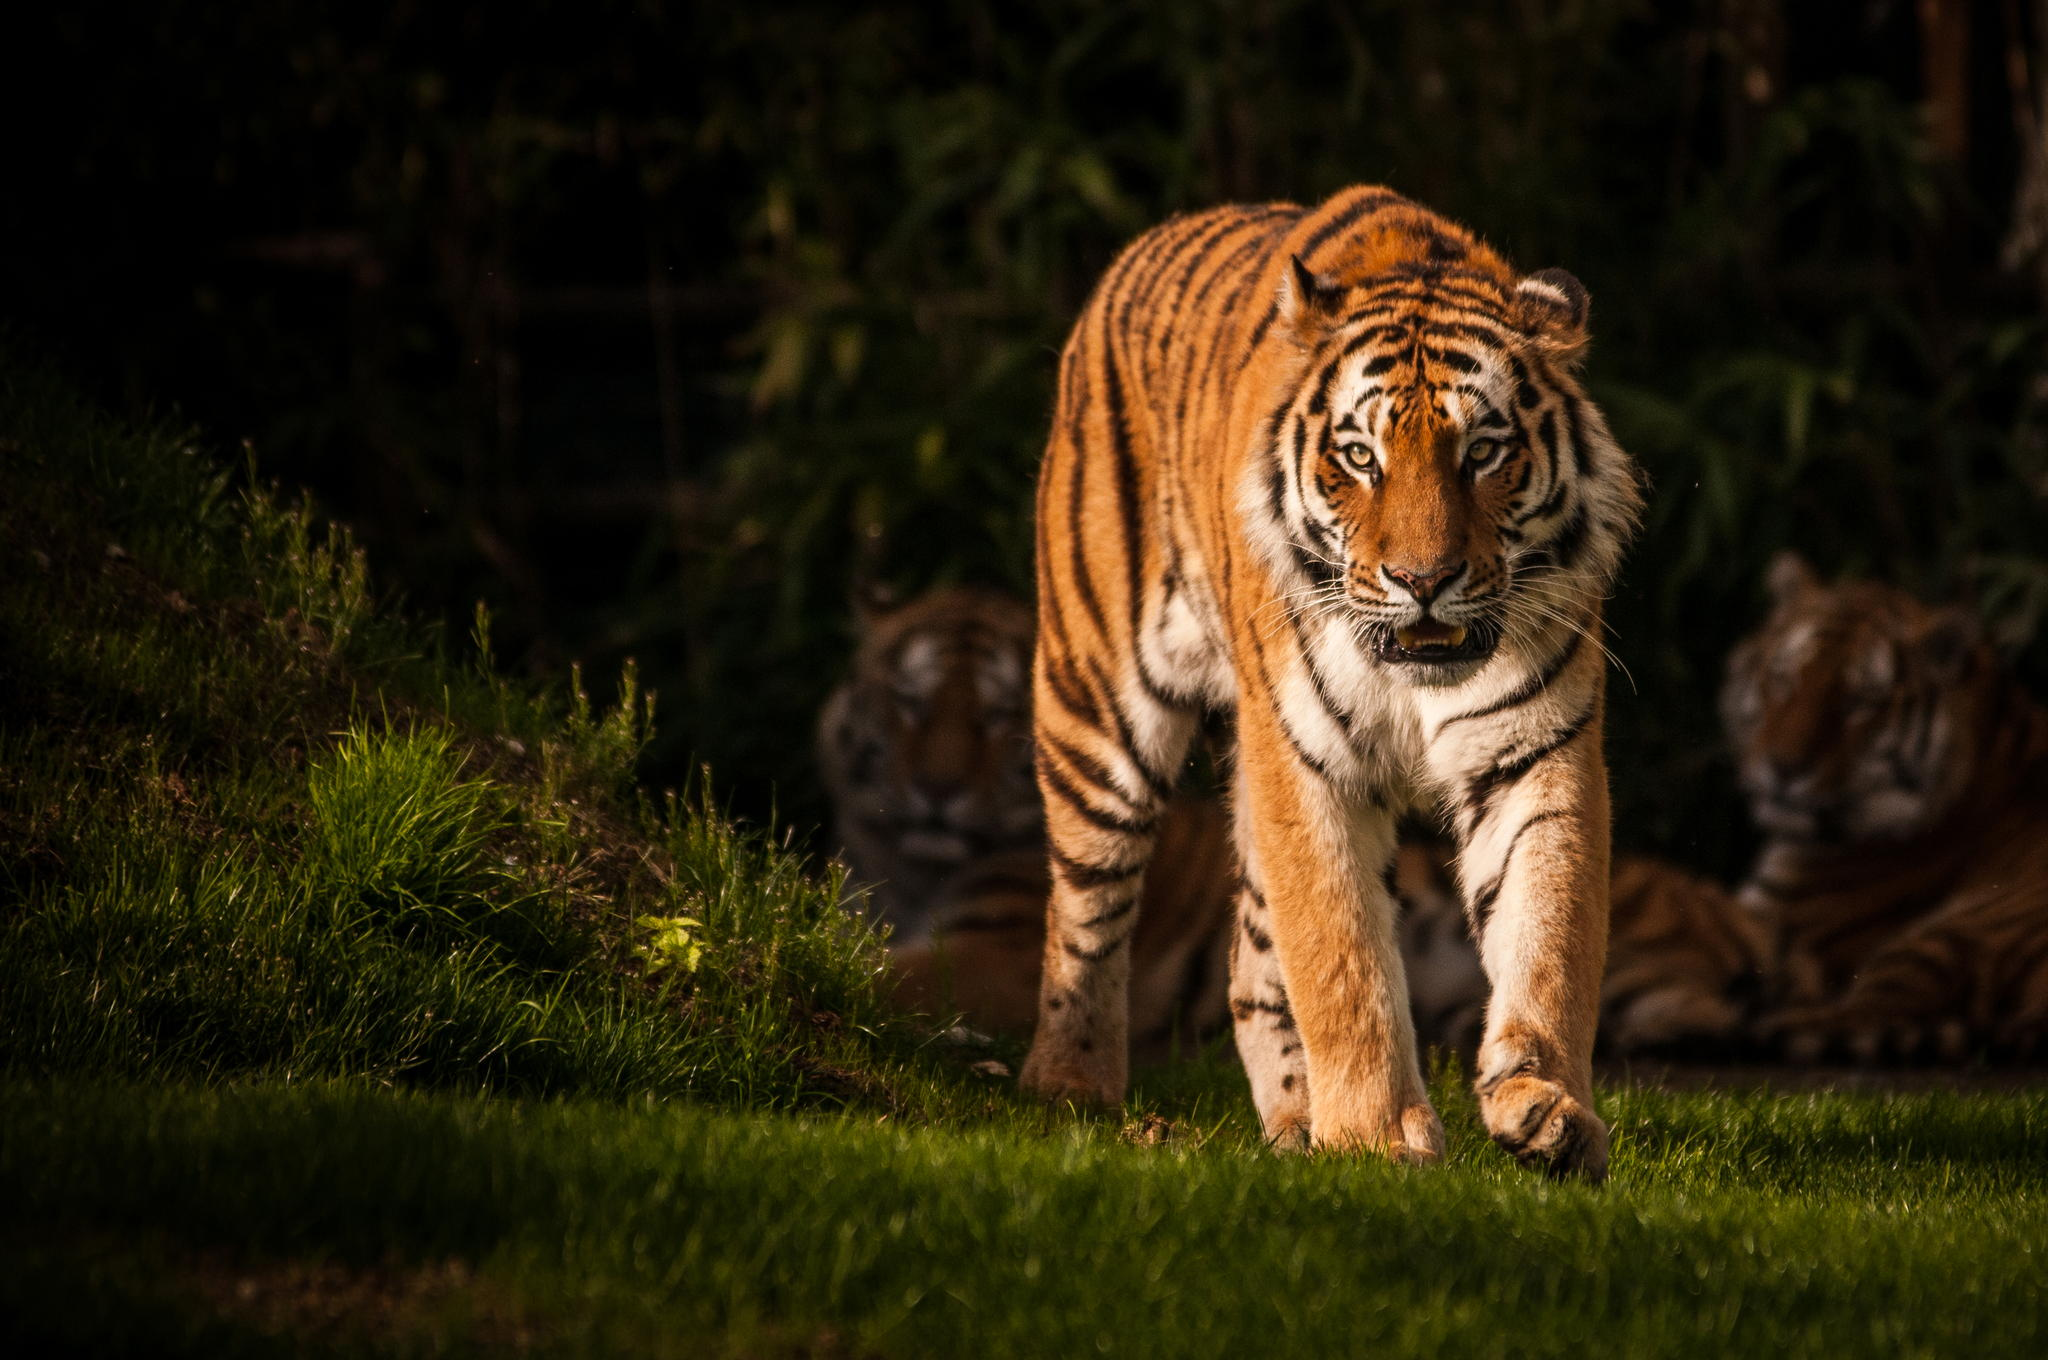tiger: (972, 191, 1682, 1204)
